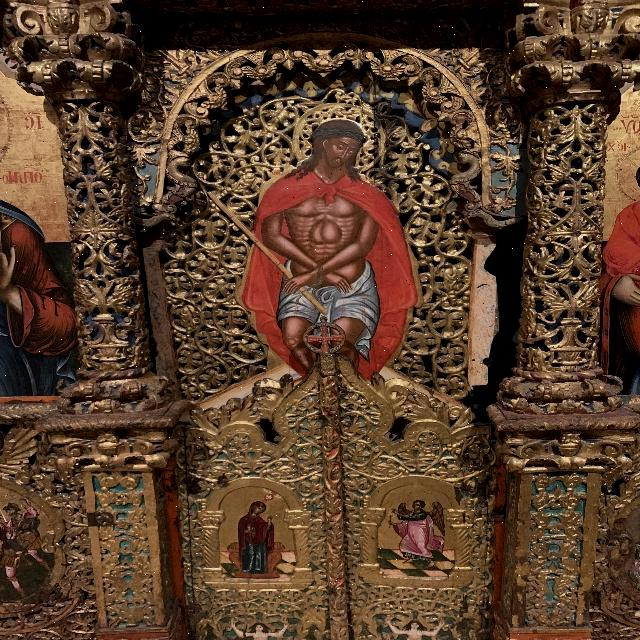aura: (293, 105, 387, 170)
christ: (254, 103, 403, 368)
scepter: (211, 192, 338, 315)
